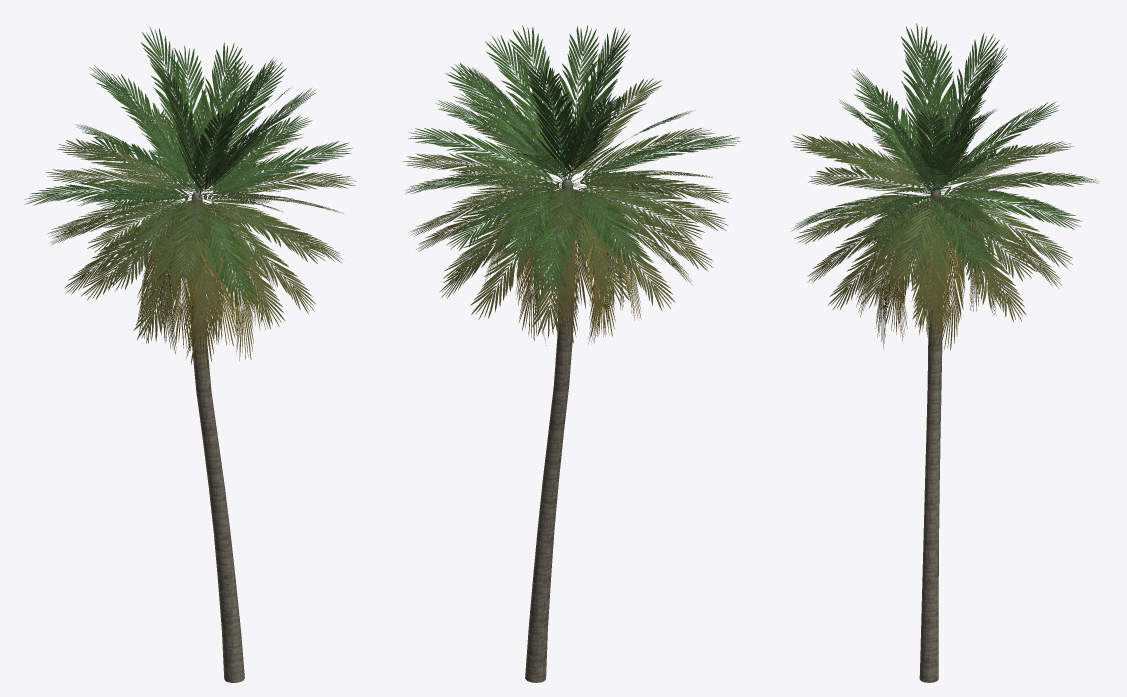
File: Tree8.fbx
3 renders of one model, left to right at view 1: azimuth 30°, elevation 25°; view 2: azimuth 150°, elevation 25°; view 3: azimuth 270°, elevation 25°, orthographic. The views are drawn at different scales.
Visible parts, largest first — view 1: group3_Leaf_28; view 2: group3_Leaf_28; view 3: group3_Leaf_28.
Boxes of the visible parts, x1,y1,x2,y2 form: group3_Leaf_28: (24, 27, 356, 682); group3_Leaf_28: (403, 25, 740, 682); group3_Leaf_28: (790, 23, 1099, 682).
Size of the model in its own units: 385 by 820 by 396.
Materials: 1 (1 with a texture image).
